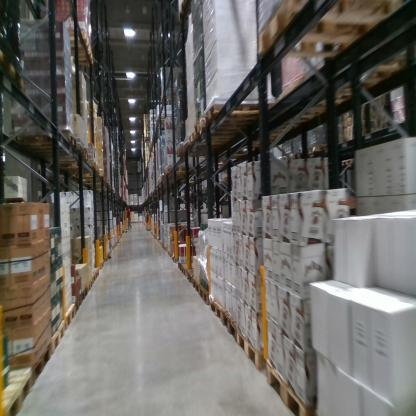pallet: (248, 3, 406, 63), (204, 95, 285, 131), (266, 361, 318, 415), (193, 113, 287, 141), (6, 129, 79, 159), (235, 323, 269, 377), (1, 368, 33, 414), (186, 131, 261, 148), (174, 143, 236, 163), (24, 342, 52, 386), (41, 146, 90, 171), (36, 141, 84, 165), (182, 141, 255, 153), (63, 28, 92, 51), (207, 292, 225, 328), (48, 320, 66, 356), (221, 308, 240, 340), (70, 46, 96, 67), (65, 166, 102, 179), (164, 163, 199, 175), (69, 158, 97, 173), (303, 145, 330, 160), (65, 302, 77, 329), (198, 283, 210, 309), (192, 276, 206, 295), (292, 147, 308, 163), (187, 268, 201, 286), (182, 262, 198, 277), (338, 158, 353, 171), (79, 287, 88, 304), (74, 295, 82, 313), (94, 259, 105, 271), (92, 267, 101, 281), (176, 258, 182, 272), (87, 279, 93, 292), (90, 273, 96, 286)
pallet_truck: (143, 204, 152, 231)
